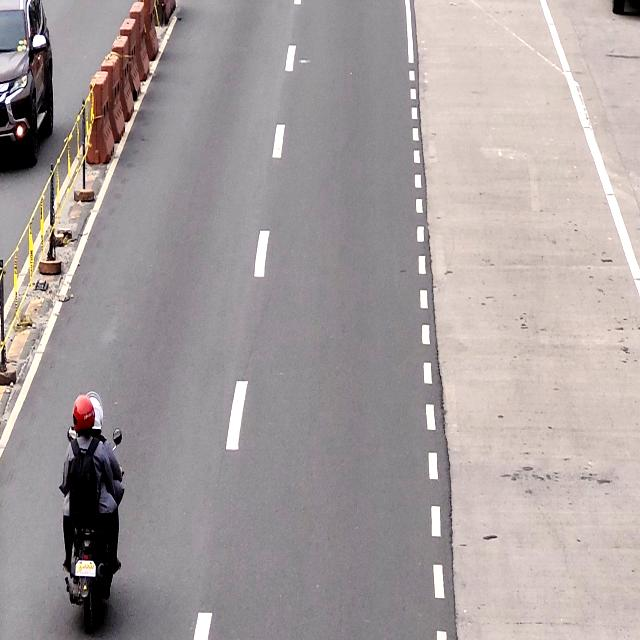Motorcycle: (66, 395, 119, 635)
